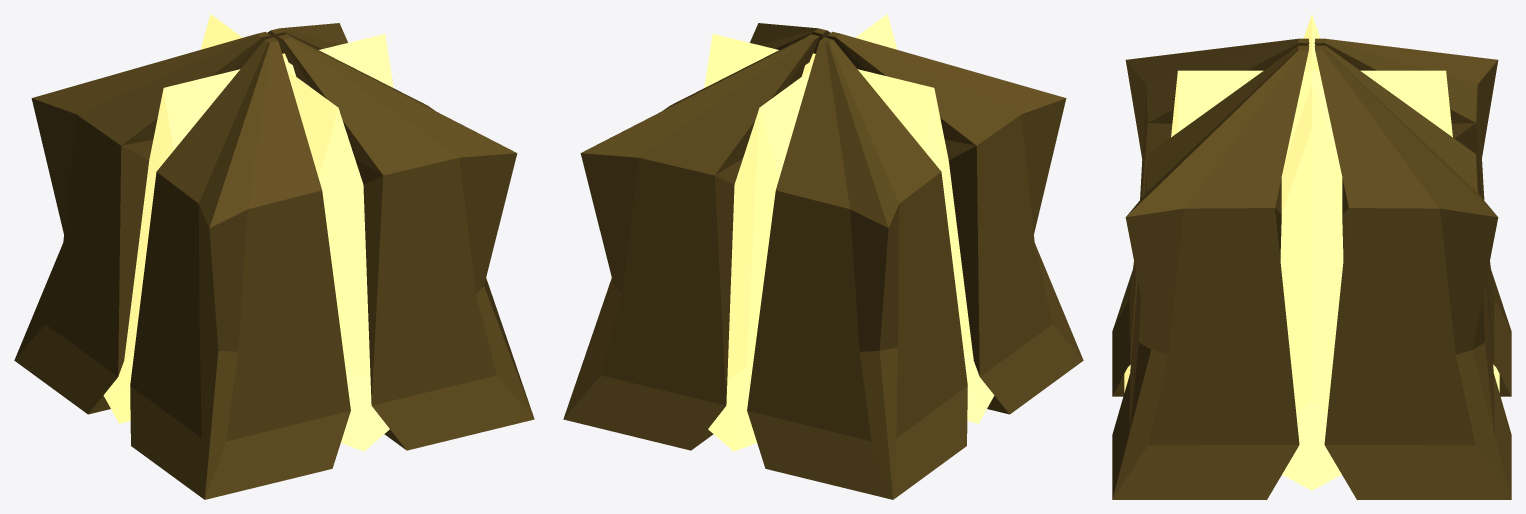
File: cube_m_clocktower.fbx
3 views of the same model, side by side, from view 1: azimuth 30°, elevation 25°; view 2: azimuth 150°, elevation 25°; view 3: azimuth 270°, elevation 25° (orthographic). The views are drawn at different scales.
Visible parts, largest first — view 1: Cube; view 2: Cube; view 3: Cube.
Part boxes in pixels (x1,y1,x2,y2): Cube: (14,14,534,499); Cube: (563,14,1083,499); Cube: (1112,14,1511,499).
Size of the model in its own units: 280 by 287 by 280.
